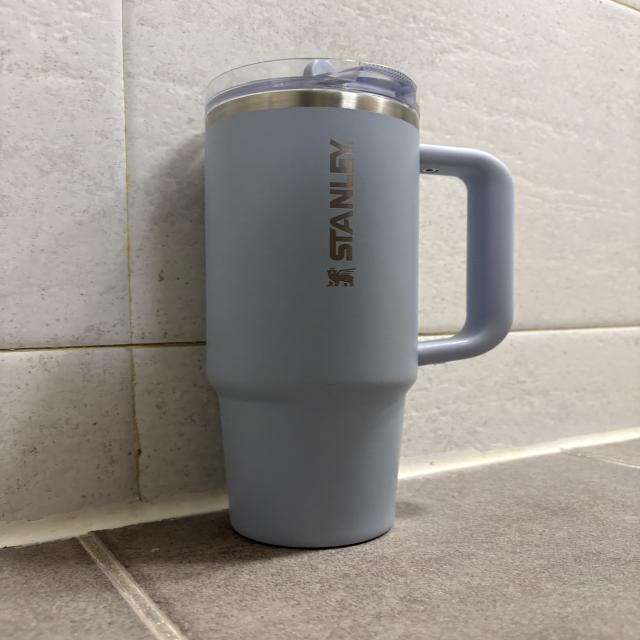waterbottle: (206, 58, 513, 548)
